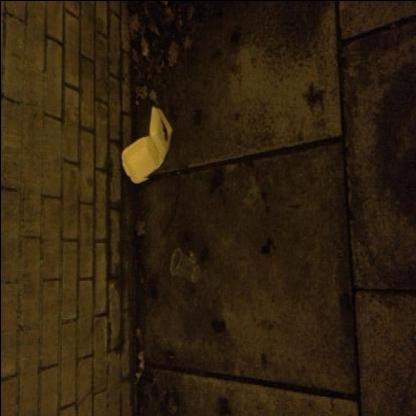Cup: (170, 247, 199, 281)
Plastic container: (121, 105, 172, 183)
